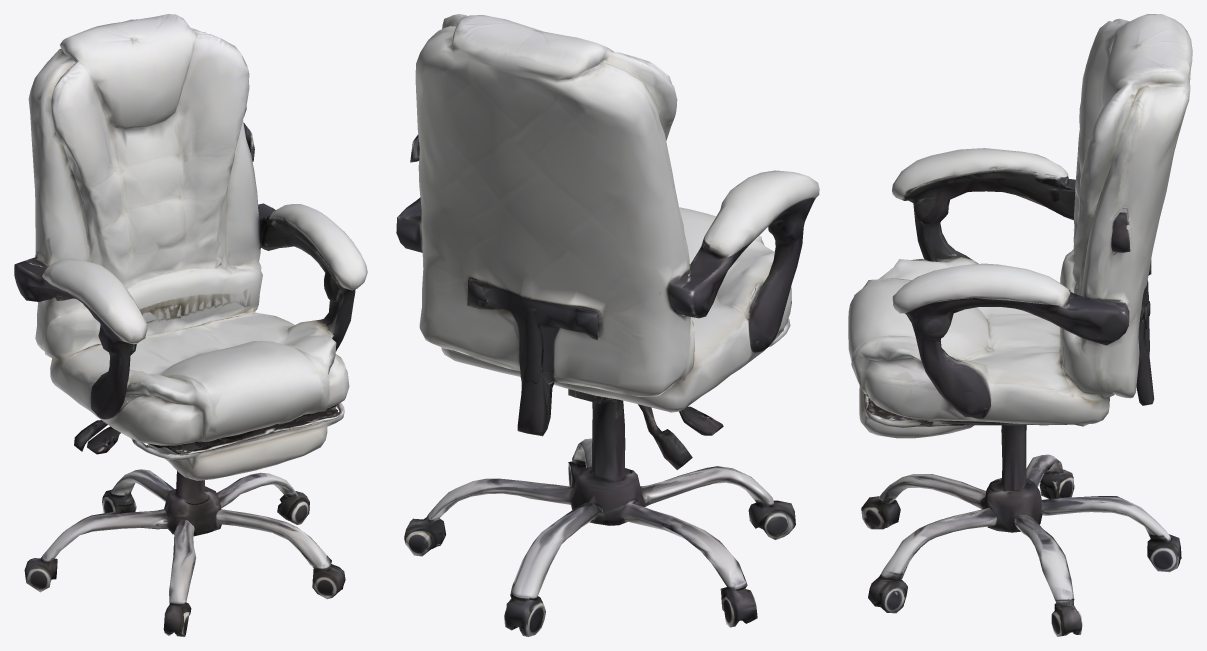
The picture shows the model from 3 angles, left to right: view 1: azimuth 30°, elevation 25°; view 2: azimuth 150°, elevation 25°; view 3: azimuth 270°, elevation 25°; orthographic projection. The views are drawn at different scales.
Parts seen in each view (by area): view 1: Mesh_0; view 2: Mesh_0; view 3: Mesh_0.
Part boxes in pixels (box(x1,y1,x2,y2)): Mesh_0: box(14, 14, 367, 636); Mesh_0: box(396, 14, 819, 636); Mesh_0: box(848, 14, 1192, 636).
Size of the model in its own units: 0.7307 by 1.2 by 0.7075.
1 material, 1 textured.
